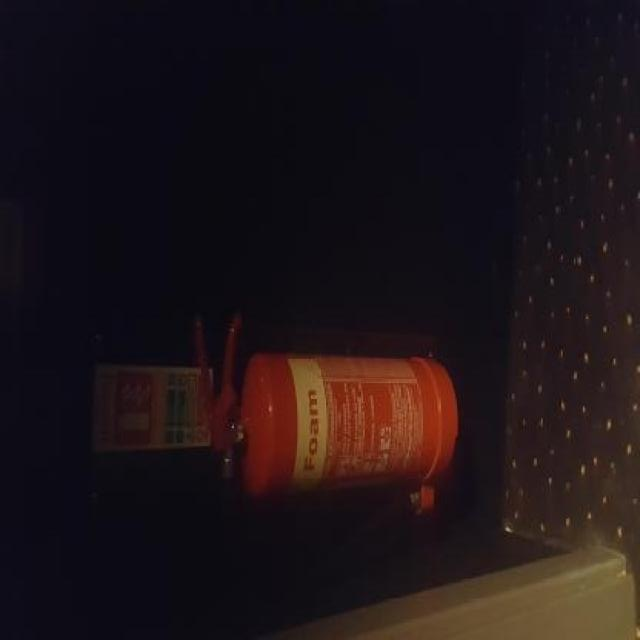fire extinguisher: (193, 316, 459, 518)
